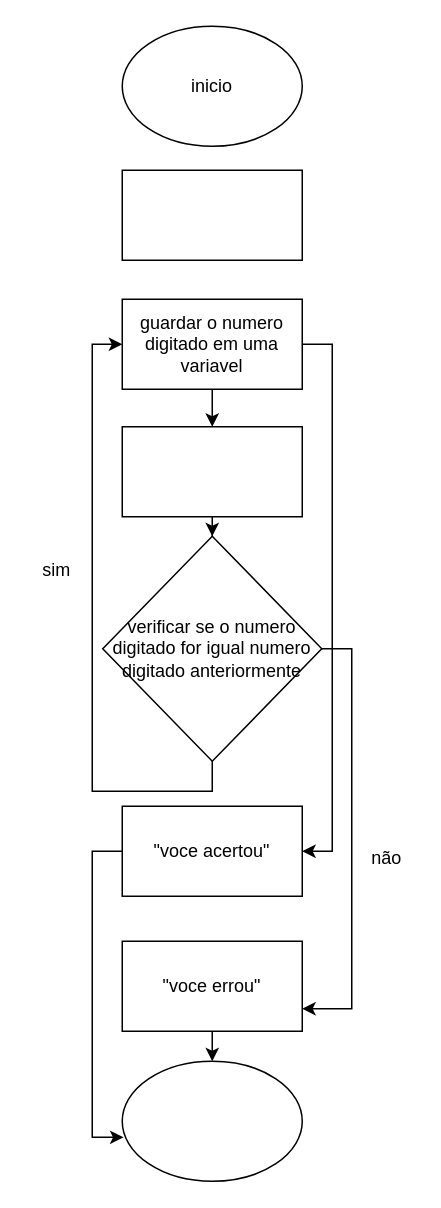
This 441x1208 diagram has some shape labels left out. Here are the shapes that lost their labels. From the top down, the centre of each, then its label:
At [211,214]: "digitar um numero de 1 a 10".
At [211,471]: "input digitar um nuemro de 1 a 10".
At [211,1120]: "fim".
